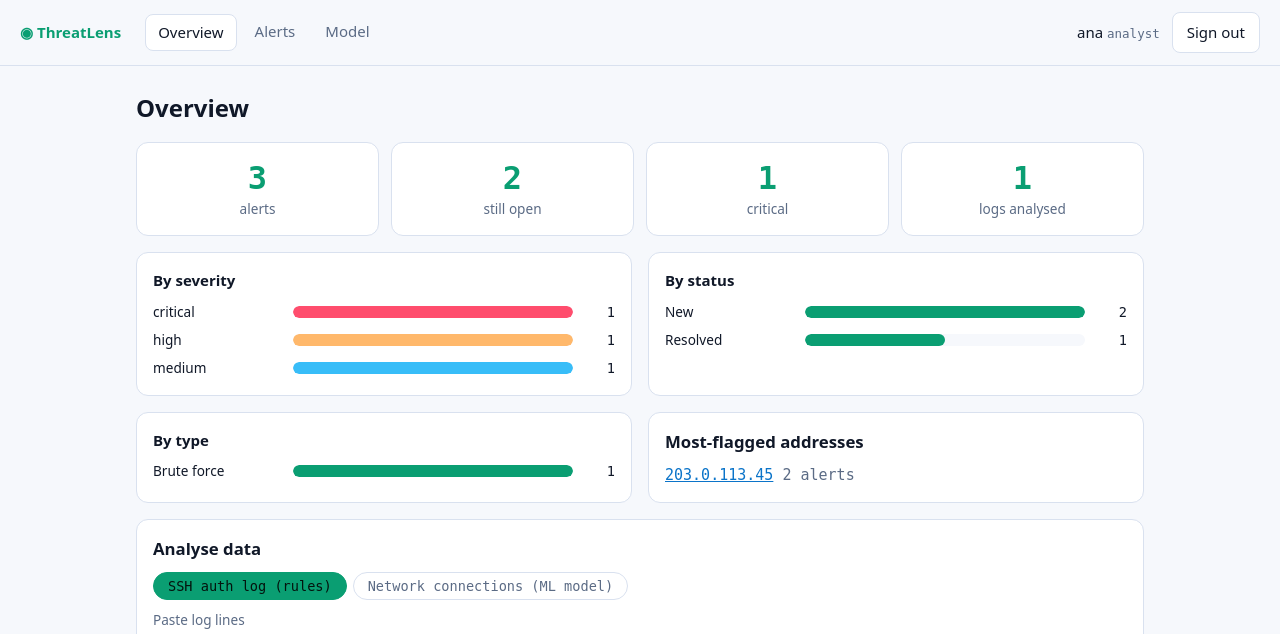
Test case: sign in › signing out revokes the token
Click the button "Sign out": x=1216, y=32 [1172,12,1260,52]
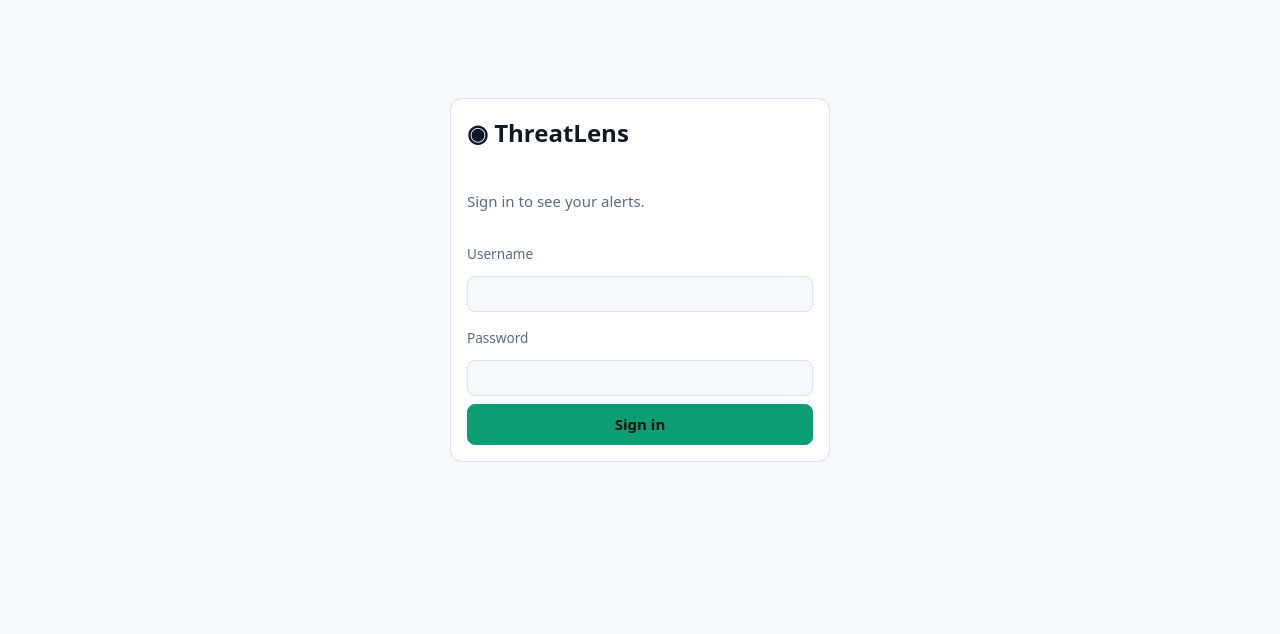
Check: the button "Sign in" is shown, box [467,404,813,445]
